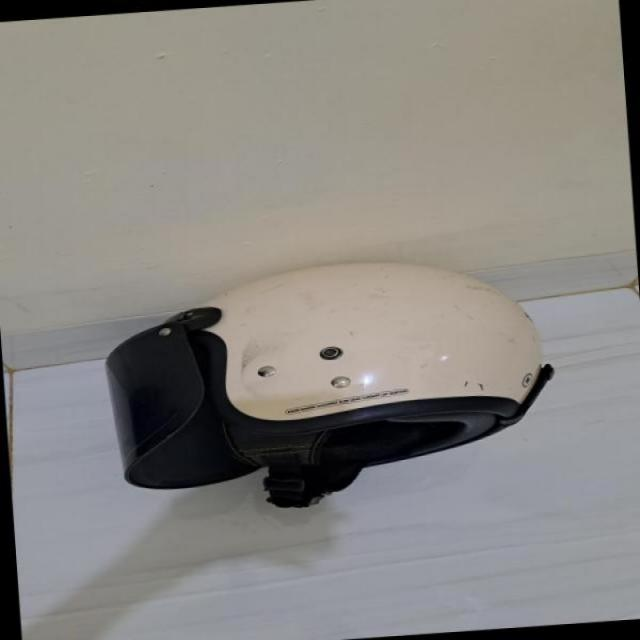Helmet: (79, 245, 551, 526)
